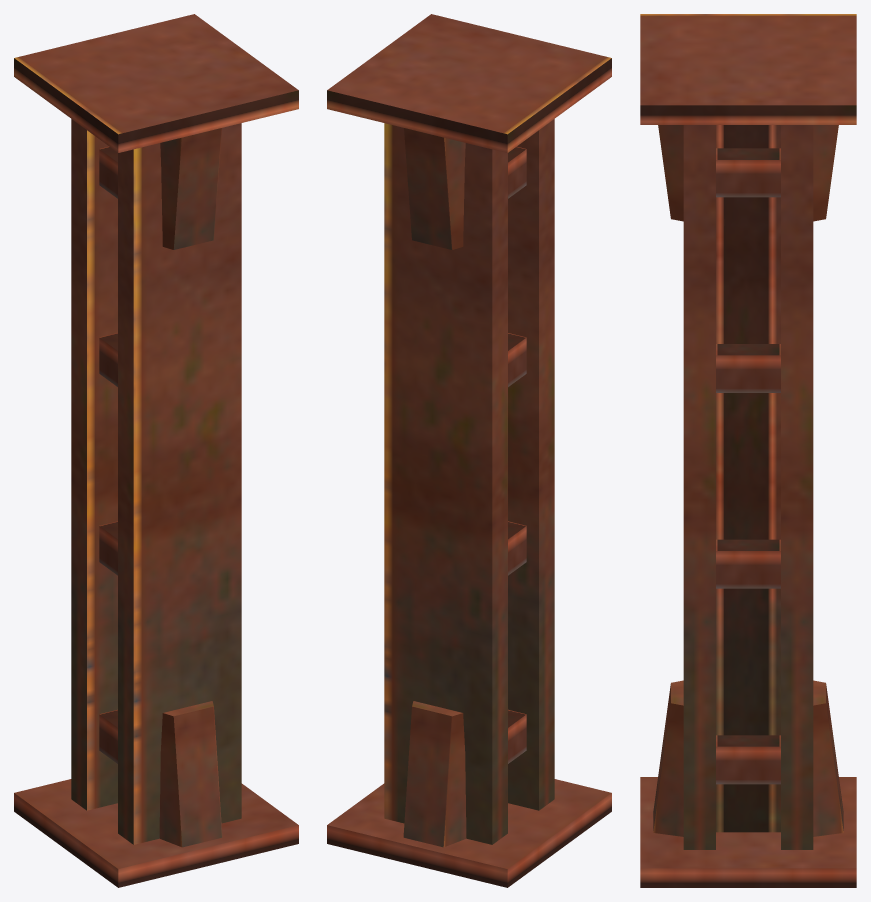
File: MO_PILLAR_04.fbx
3 renders of one model, left to right at view 1: azimuth 30°, elevation 25°; view 2: azimuth 150°, elevation 25°; view 3: azimuth 270°, elevation 25°, orthographic. The views are drawn at different scales.
Parts seen in each view (by area): view 1: MO_PILLAR_04; view 2: MO_PILLAR_04; view 3: MO_PILLAR_04.
Boxes of the visible parts, bbox=[...] form: MO_PILLAR_04: bbox=[14, 14, 298, 887]; MO_PILLAR_04: bbox=[327, 14, 611, 887]; MO_PILLAR_04: bbox=[640, 14, 856, 887].
Size of the model in its own units: 1 by 4 by 1.
